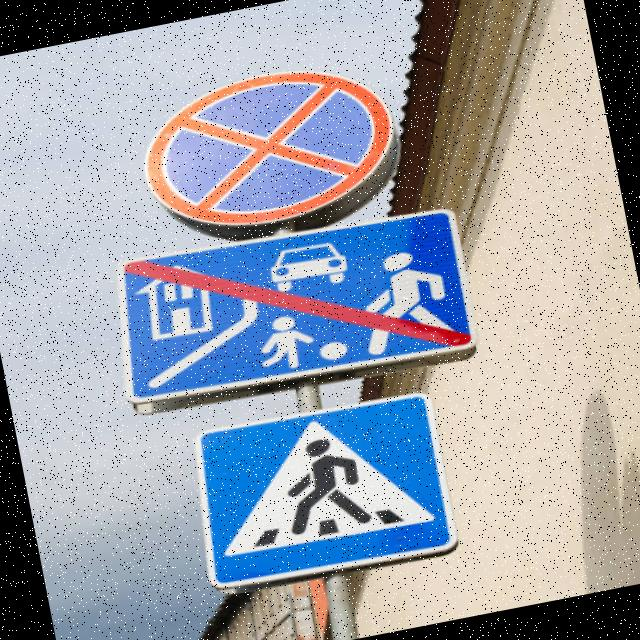no_parking: (116, 39, 424, 268)
